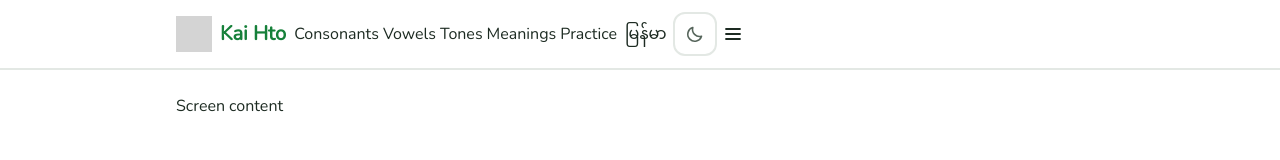
it: Layout › given the phone menu is open › closes on a tap outside the header
Click the button named "Menu".
click(733, 34)  # box top-left (723, 24), bottom-right (743, 44)
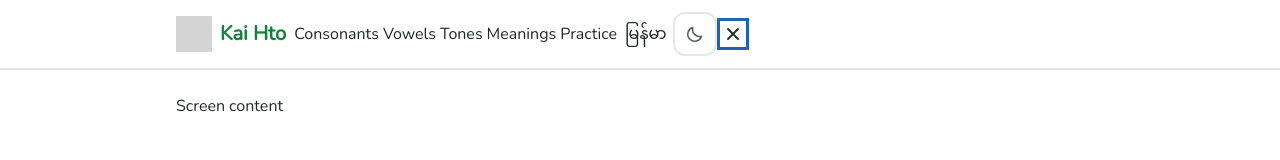
Click the element showing "Screen content".
click(230, 106)  # box top-left (176, 95), bottom-right (283, 117)
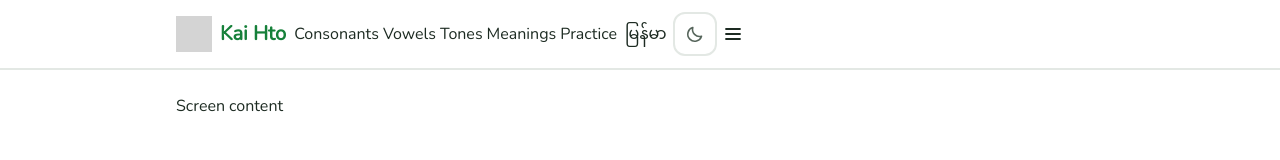
Result: the button named "Menu" is collapsed at top-left (723, 24), bottom-right (743, 44)
